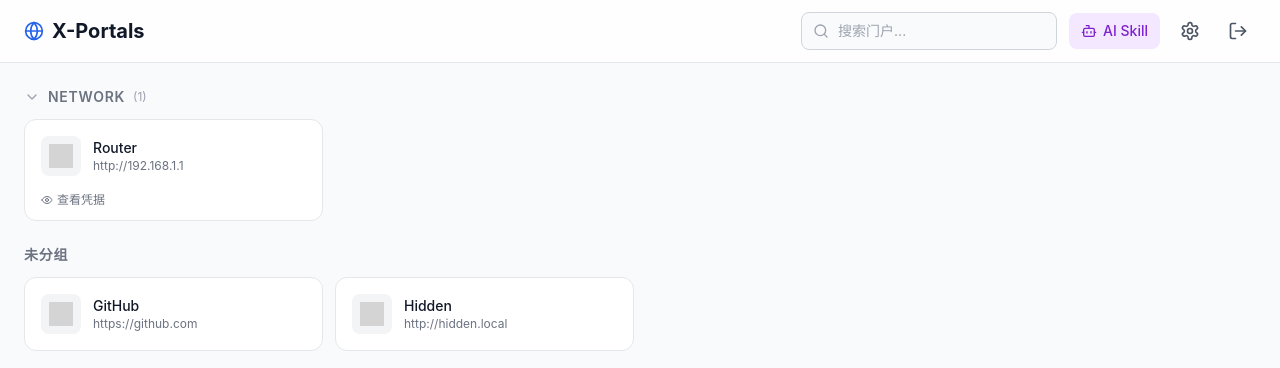
Scenario: Home page › search is case-insensitive
Expected: the heading "Router" is shown, [93,139,137,156]
Type "ROUTER" into the field with placeholder "搜索门户...".
click(929, 31); type("ROUTER")  # box [801,12,1057,50]
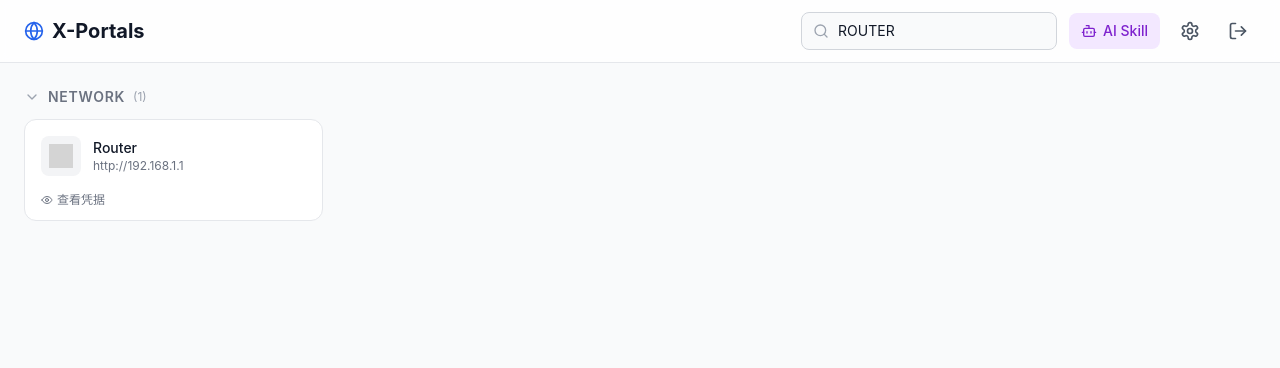
Expected: the heading "Router" is shown, [93,139,137,156]
Now the link "GitHub" is gone
